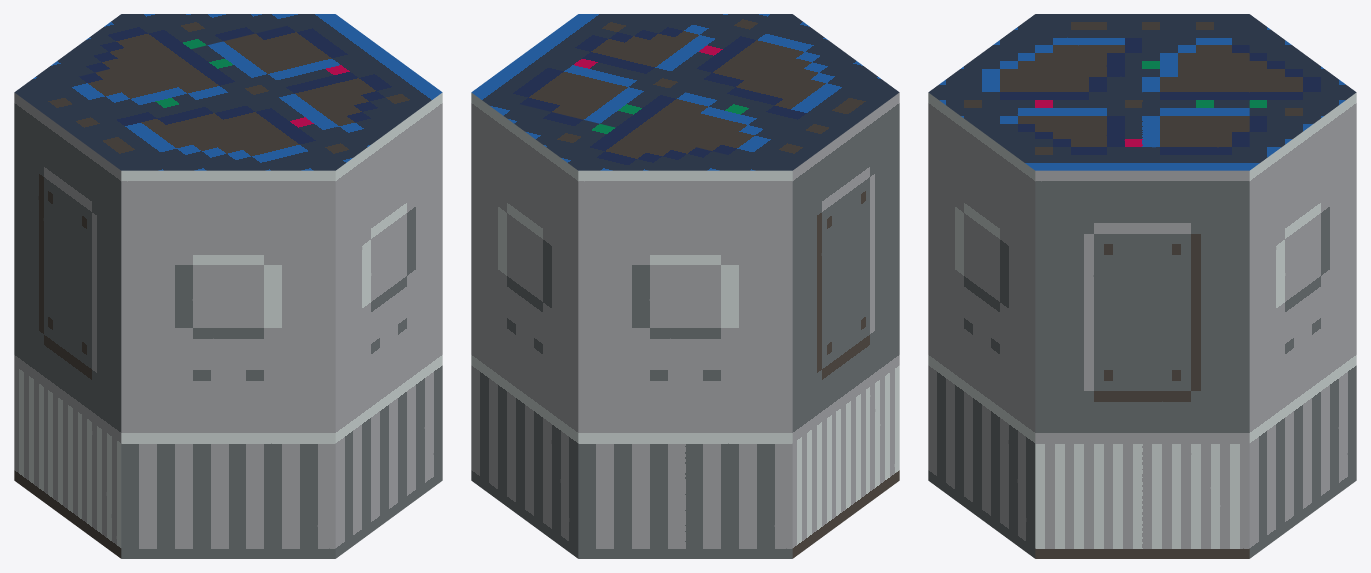
File: medium_fuel_tank.obj
3 renders of one model, left to right at view 1: azimuth 30°, elevation 25°; view 2: azimuth 150°, elevation 25°; view 3: azimuth 270°, elevation 25°, orthographic.
Visible parts, largest first — view 1: Cylinder.001; view 2: Cylinder.001; view 3: Cylinder.001.
Boxes of the visible parts, left/top/right/bottom form: Cylinder.001: left=14, top=14, right=442, bottom=558; Cylinder.001: left=471, top=14, right=899, bottom=558; Cylinder.001: left=928, top=14, right=1356, bottom=558.
Size of the model in its own units: 1.73 by 2 by 2.
